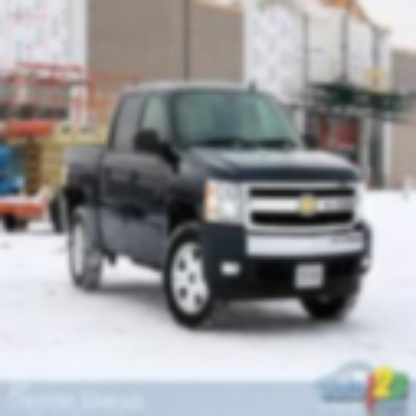Vehicle: (67, 89, 376, 343)
